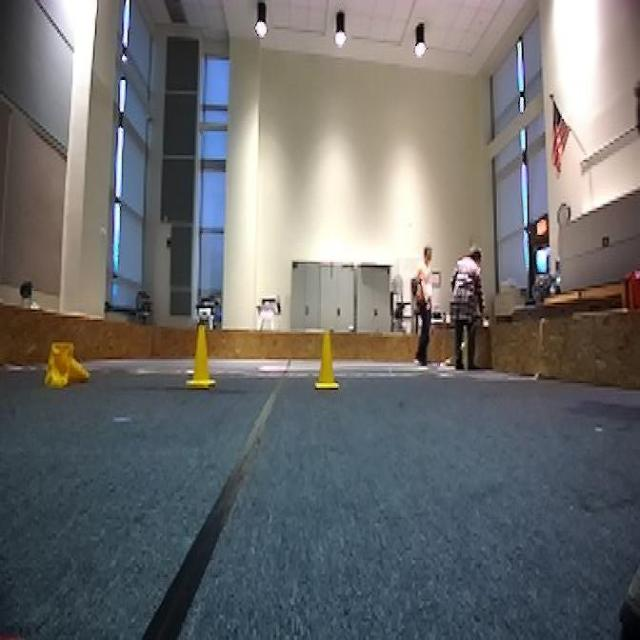frc_cone: (186, 325, 217, 388), (44, 344, 90, 386), (312, 334, 343, 389)
